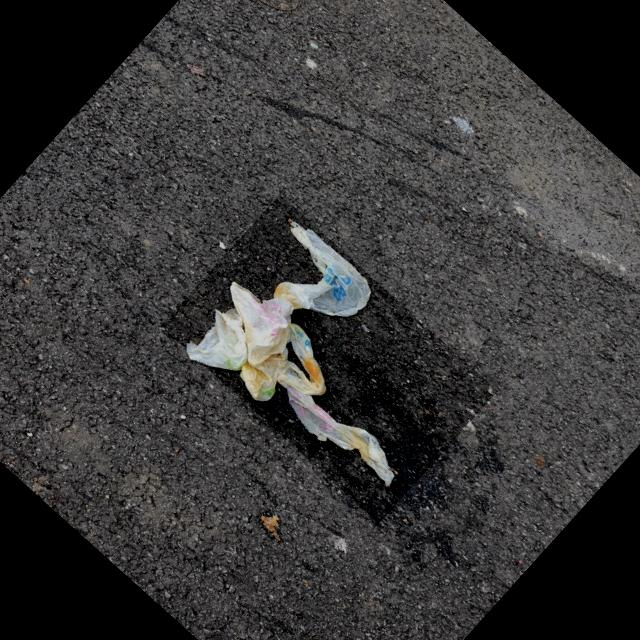Unlabeled litter: (160, 194, 497, 523)
